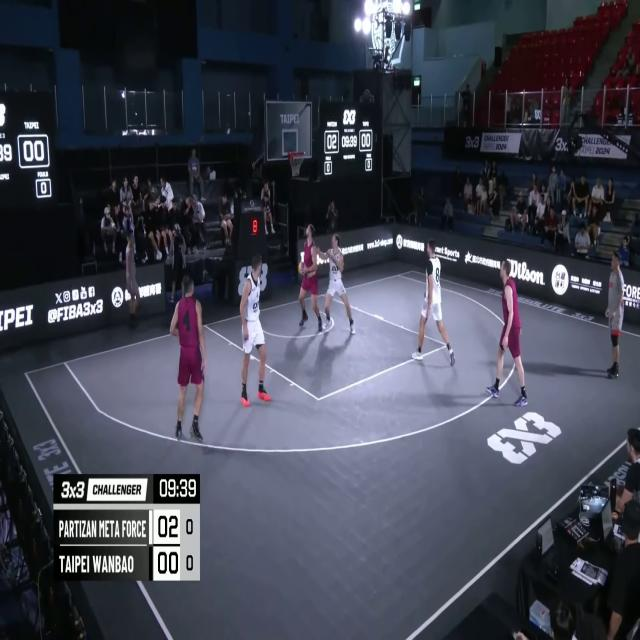ball: (297, 258, 308, 275)
hoop: (286, 148, 306, 179)
player: (485, 255, 530, 412), (170, 274, 206, 443), (418, 240, 458, 370), (240, 253, 270, 411), (320, 232, 354, 338), (298, 224, 326, 334)
